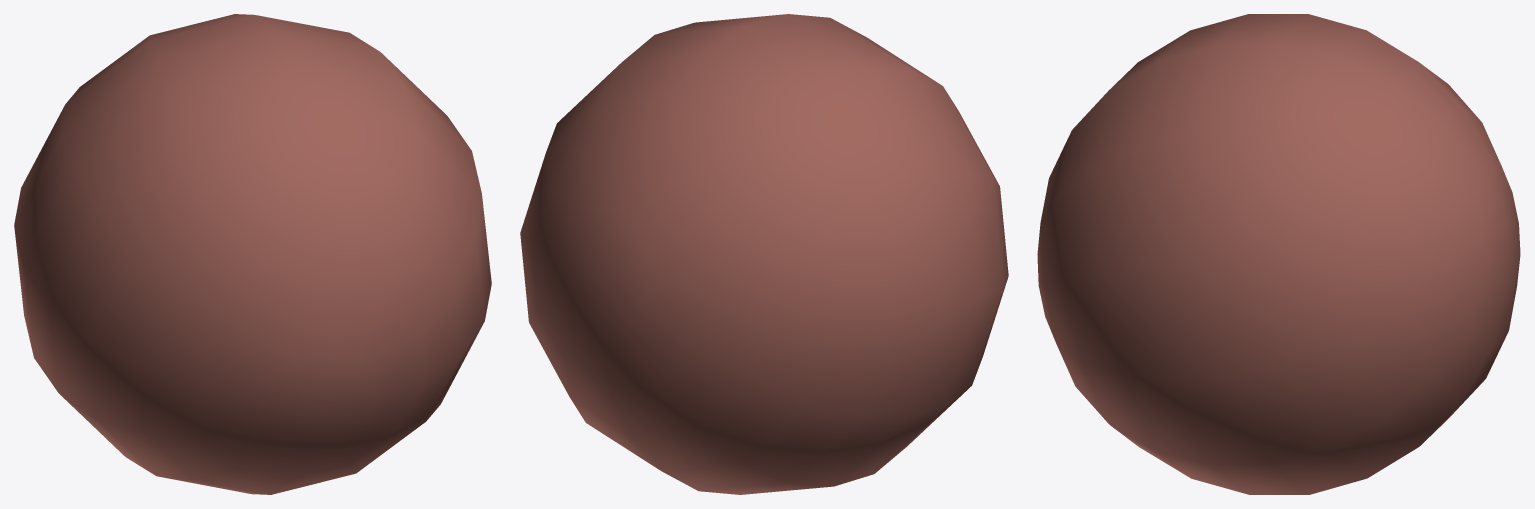
The model's file is mixamo_humanoid_joint_rightHandRing2.fbx.
3 renders of one model, left to right at view 1: azimuth 30°, elevation 25°; view 2: azimuth 150°, elevation 25°; view 3: azimuth 270°, elevation 25°, orthographic.
Visible parts, largest first — view 1: joint_RightHandRing2; view 2: joint_RightHandRing2; view 3: joint_RightHandRing2.
Boxes of the visible parts, x1=… form: joint_RightHandRing2: x1=14, y1=14, x2=491, y2=494; joint_RightHandRing2: x1=520, y1=14, x2=1008, y2=494; joint_RightHandRing2: x1=1037, y1=14, x2=1520, y2=494.
Size of the model in its own units: 1.93 by 1.92 by 1.93.
